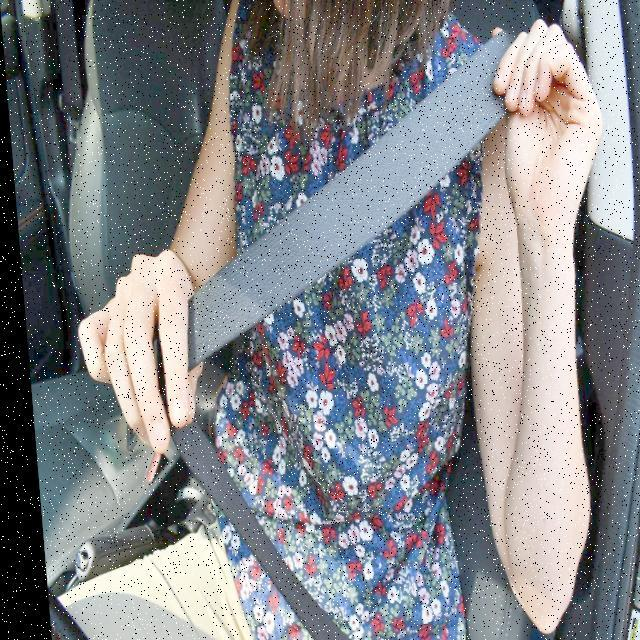seatbelt: (144, 0, 531, 631)
